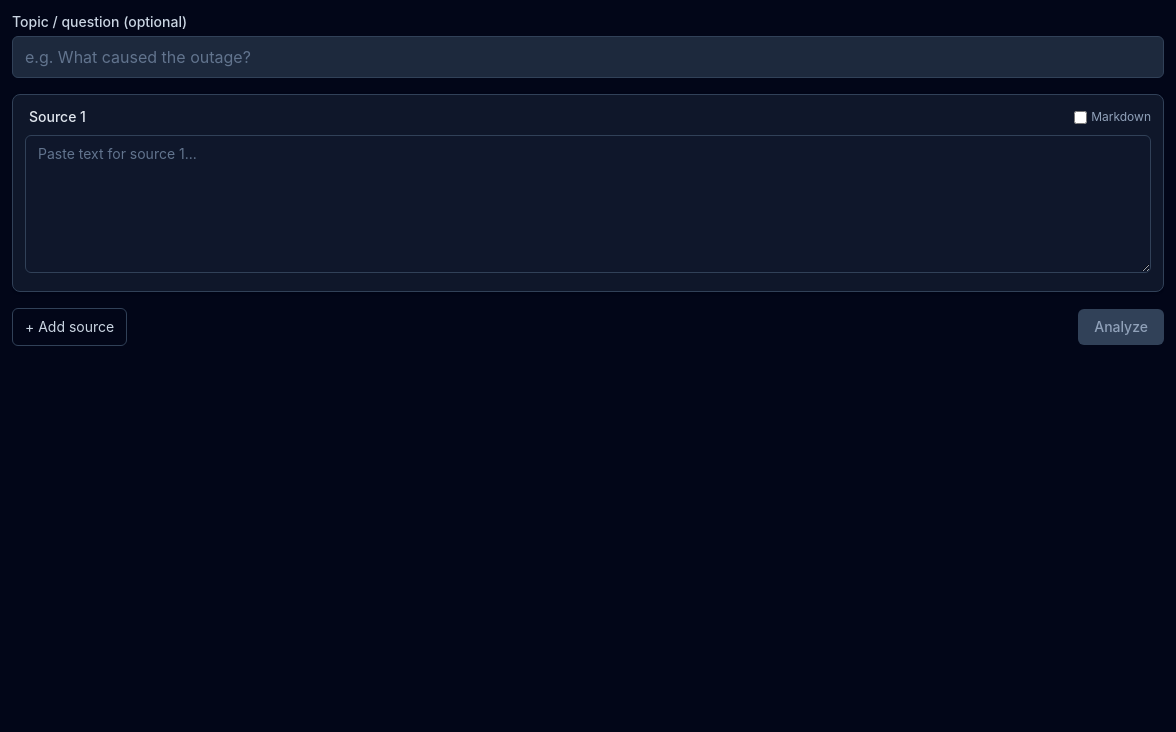
Scenario: SourceEditor › adds a new source block
The image size is (1176, 732).
Expected: the number of text boxes with placeholder "Paste text for source 1..." is 1, [25,135,1151,273]
Click the button "+ Add source" at {"x": 70, "y": 327}, box [12,308,127,346]
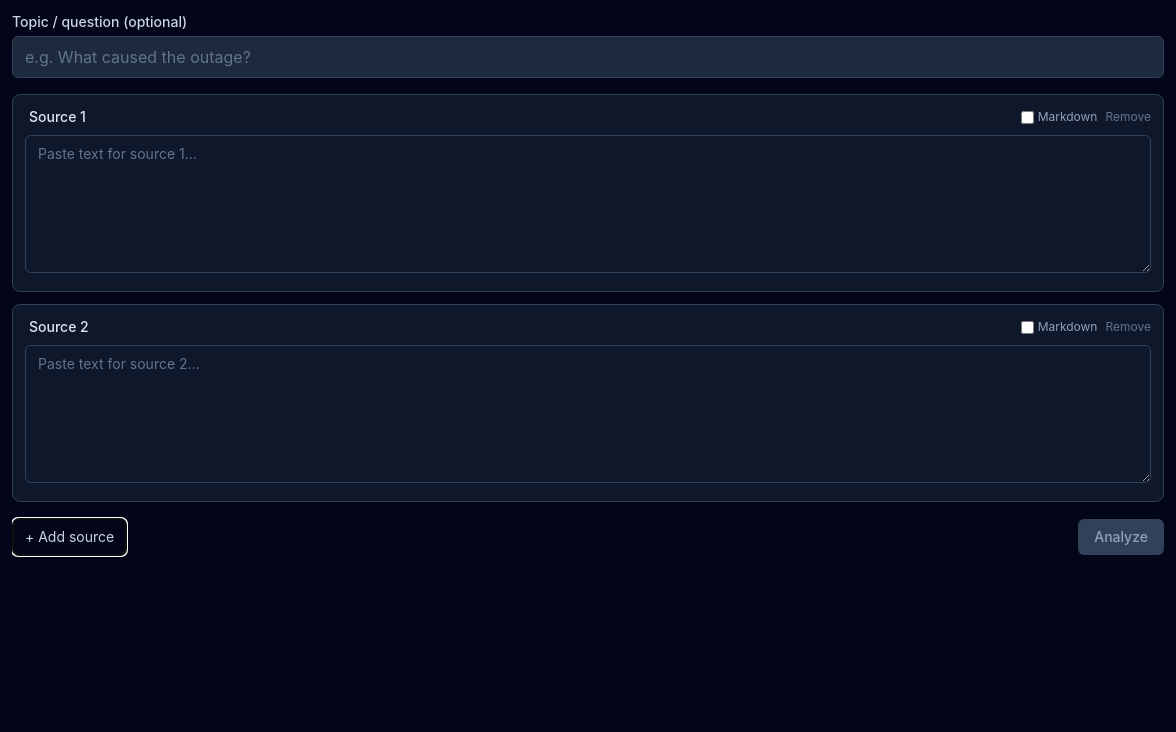
Expected: the number of text boxes with placeholder "Paste text for source 1..." is 2, [25,135,1151,273]; [25,345,1151,483]
